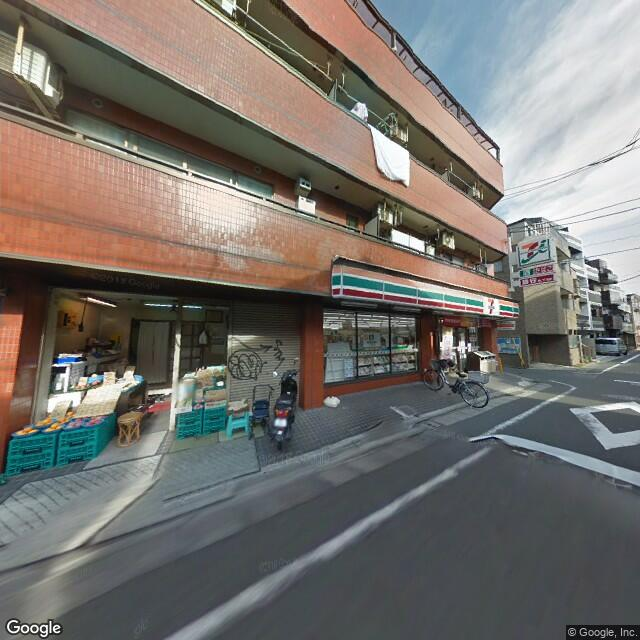7-eleven: (328, 261, 520, 324), (517, 232, 551, 266)
